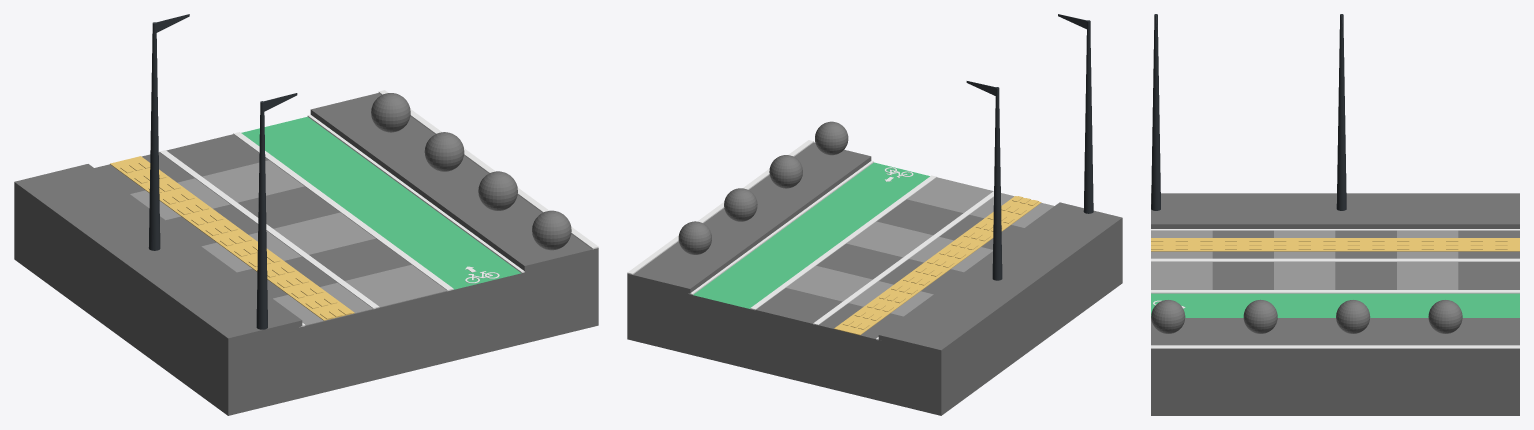
The model's file is Trotoar.fbx.
3 views of the same model, side by side, from view 1: azimuth 30°, elevation 25°; view 2: azimuth 150°, elevation 25°; view 3: azimuth 270°, elevation 25° (orthographic). The views are drawn at different scales.
Visible parts, largest first — view 1: Cube; view 2: Cube; view 3: Cube.
Part boxes in pixels (bbox=[...]): Cube: bbox=[14, 14, 598, 415]; Cube: bbox=[627, 14, 1122, 415]; Cube: bbox=[1151, 14, 1519, 415].
Size of the model in its own units: 600 by 468 by 600.
